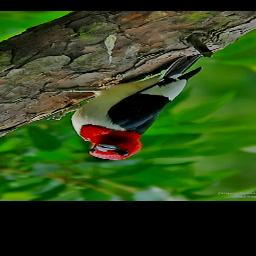Woodpecker: (47, 55, 211, 161)
